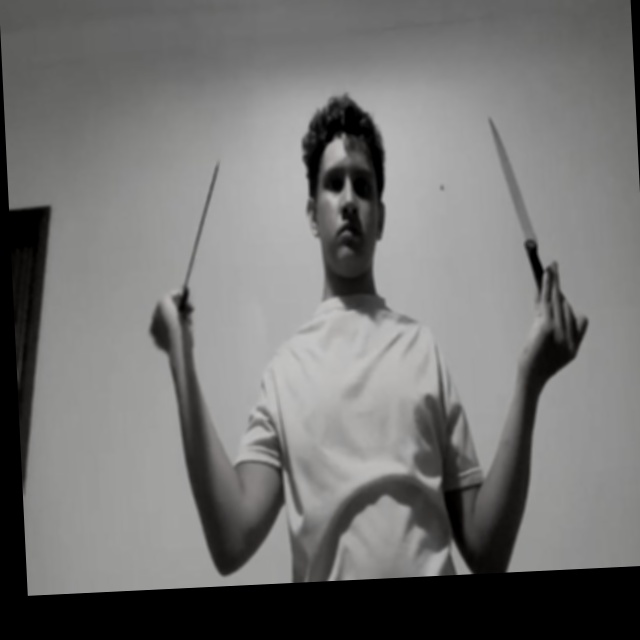Sharp-Object: (173, 161, 225, 302), (488, 112, 535, 246)
